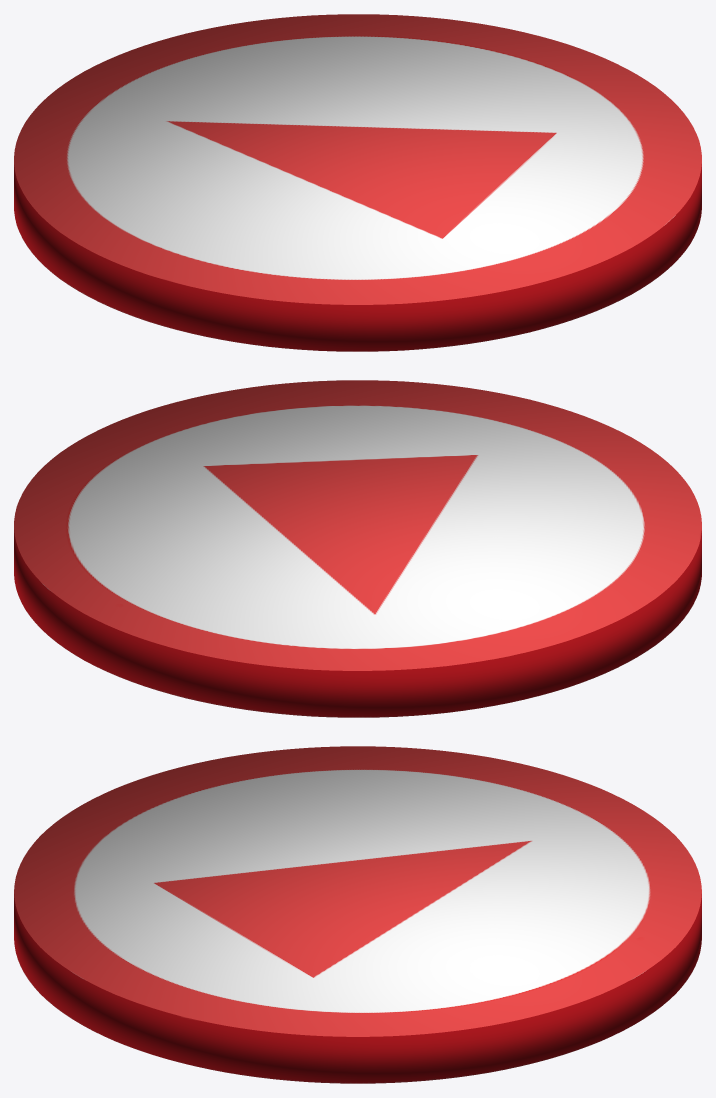
Rendered from Arrow_PointCloud.glb.
3 renders of one model, top to bottom at view 1: azimuth 30°, elevation 25°; view 2: azimuth 150°, elevation 25°; view 3: azimuth 270°, elevation 25°, orthographic.
Parts seen in each view (by area): view 1: Circle; view 2: Circle; view 3: Circle.
Boxes of the visible parts, x1,y1,x2,y2 form: Circle: [14, 14, 701, 351]; Circle: [14, 380, 701, 717]; Circle: [14, 746, 701, 1083].
Bounding box in the file's own units: 0.8 × 0.06 × 0.8.
1 material, 1 textured.
